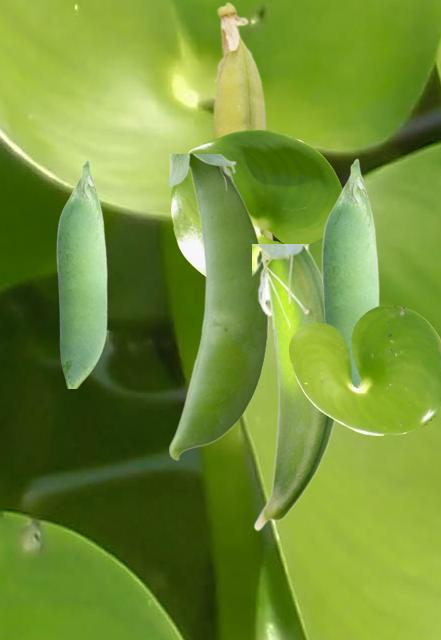pea: (169, 154, 267, 459), (252, 244, 336, 530), (212, 1, 273, 325), (321, 158, 378, 386), (56, 159, 106, 387)
